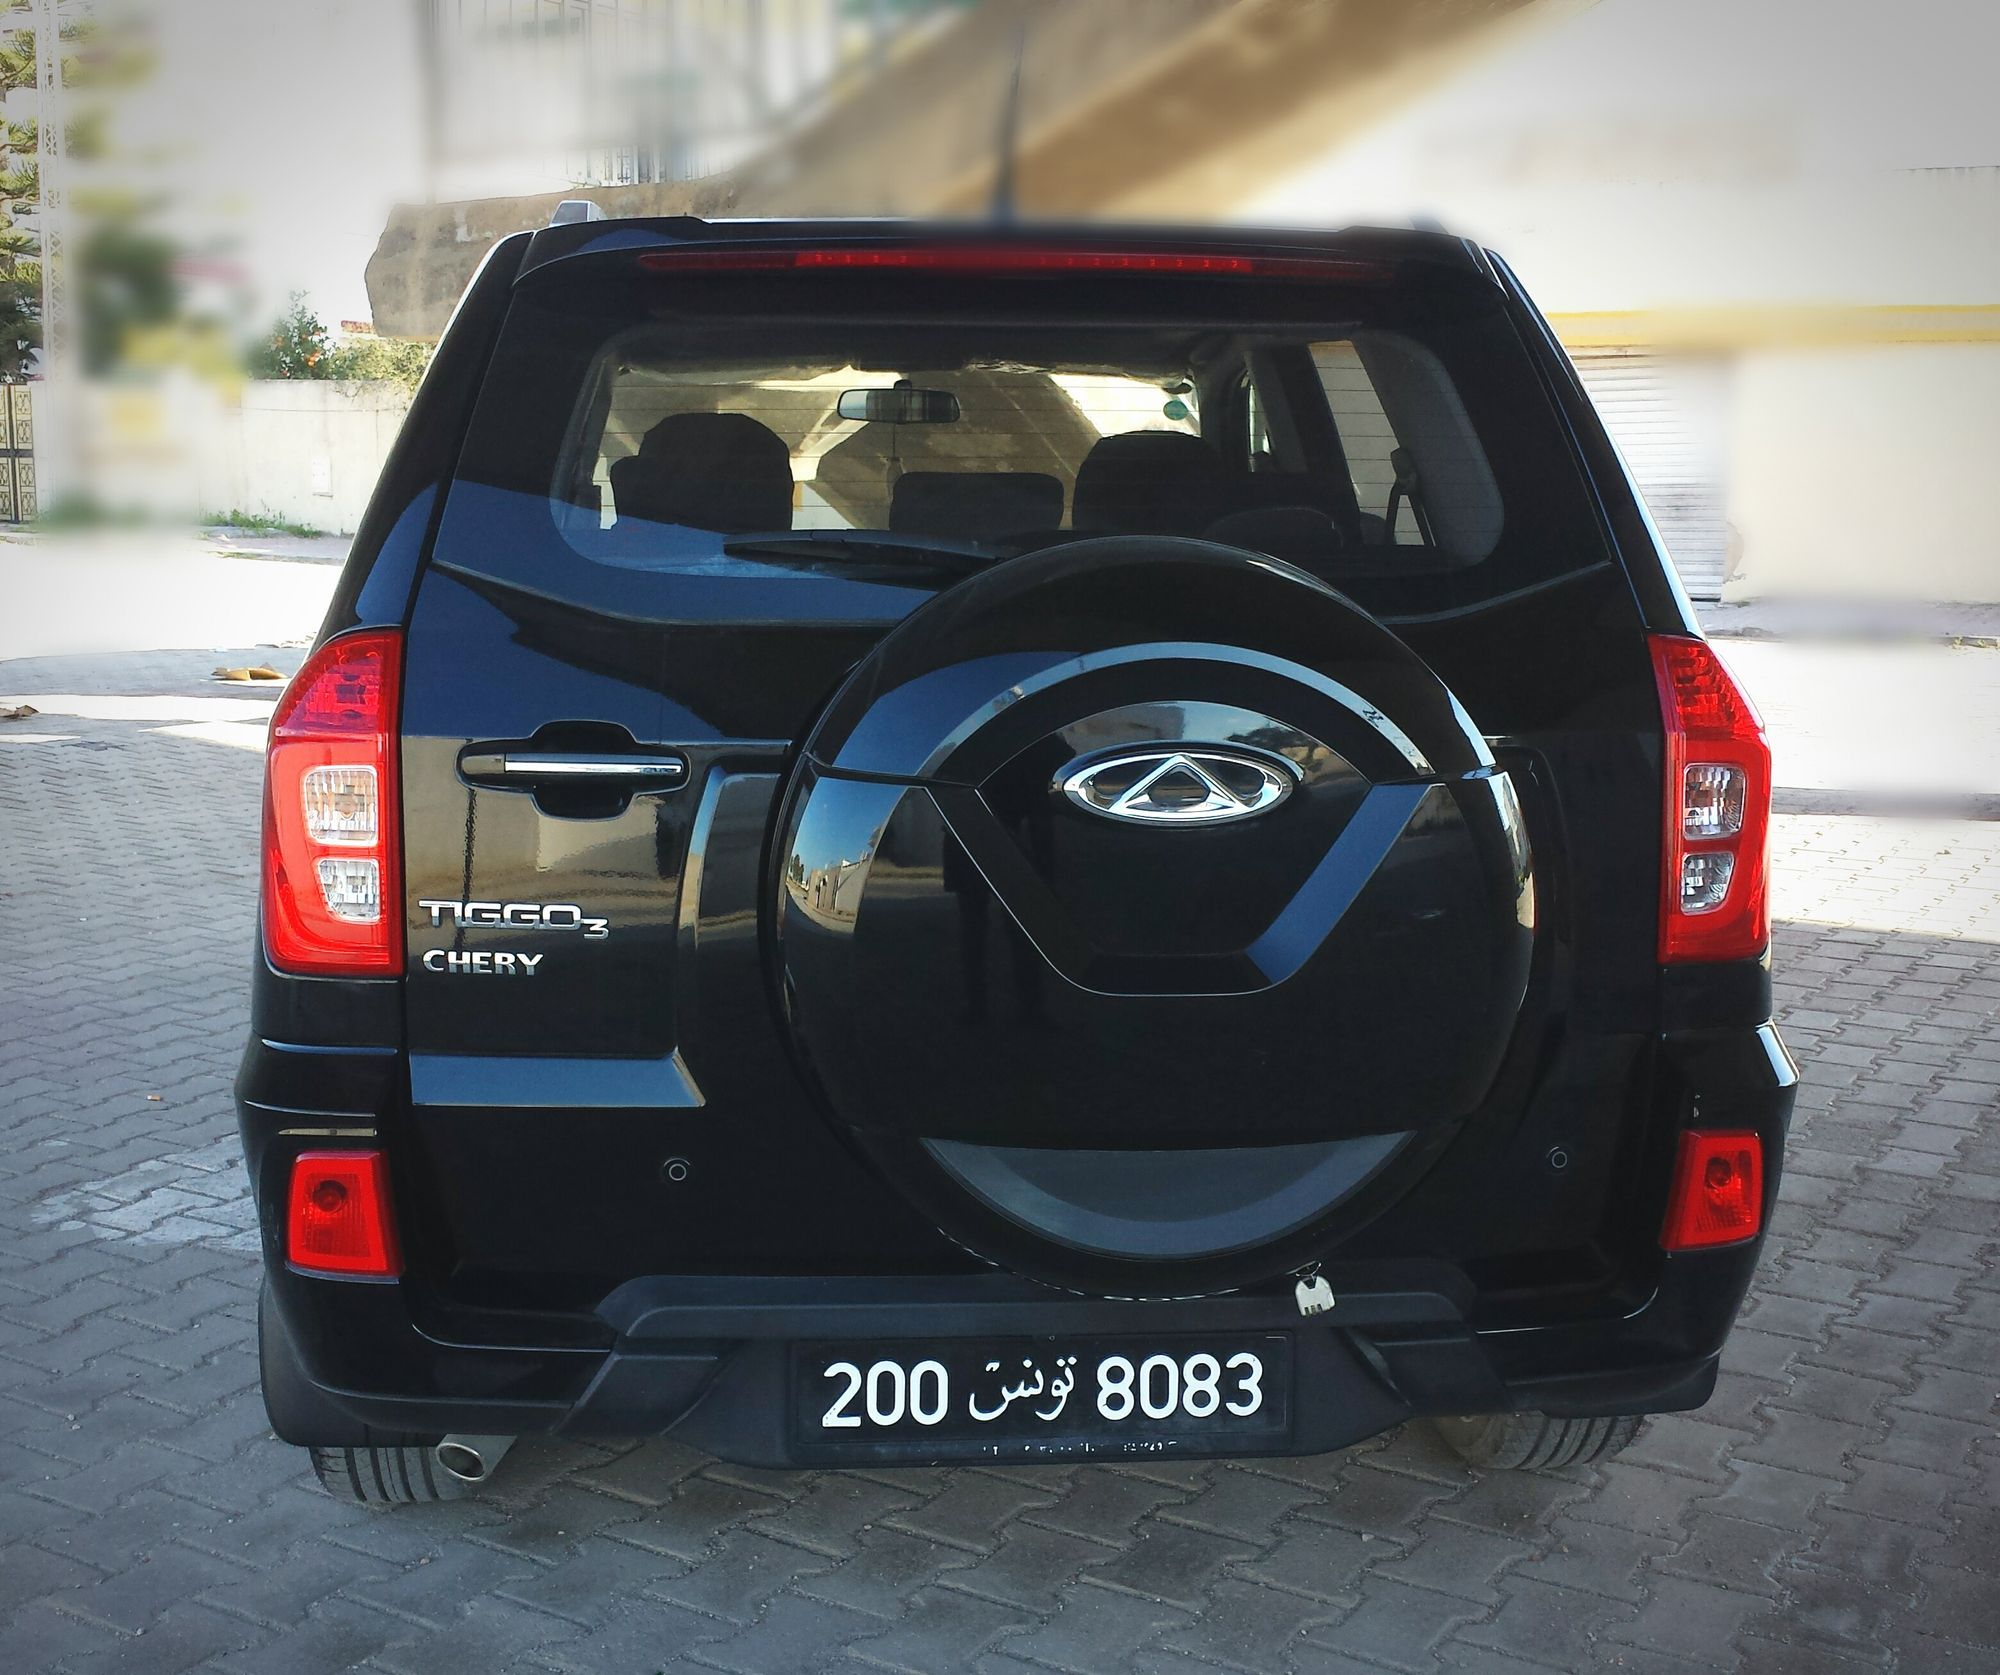LP: (790, 1330, 1313, 1450)
